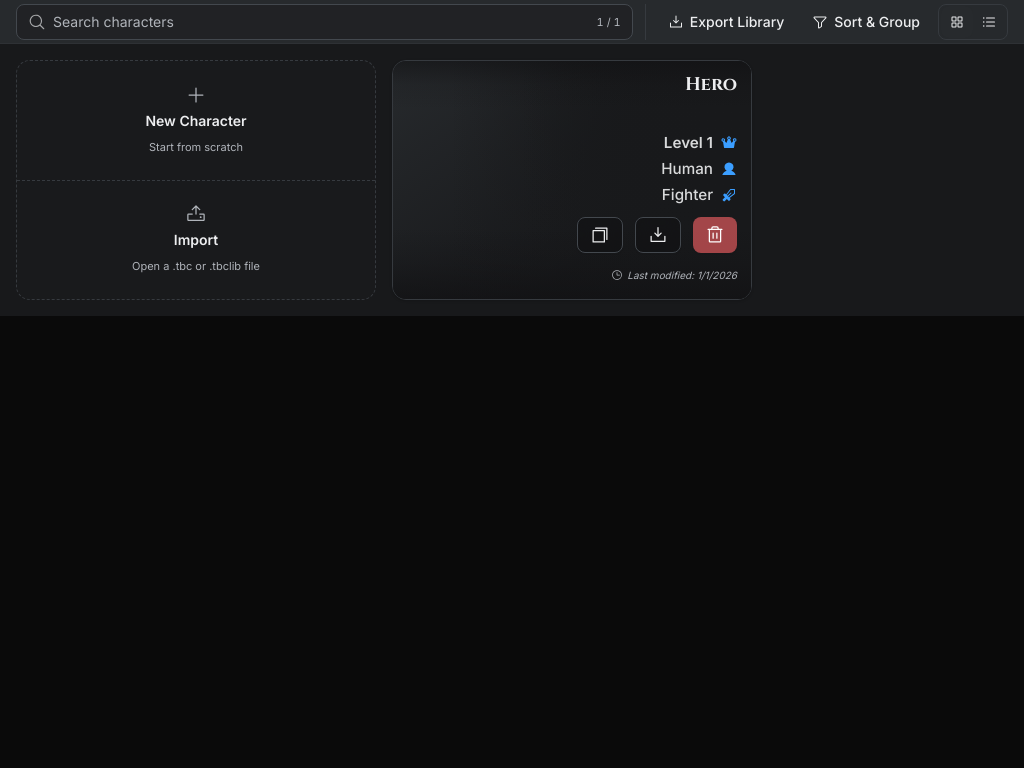
Test: home page integration workflows › shows the assigned name and ID for a single import with collisions
Click the button "Import Open a .tbc or .tbclib file": click(196, 240) [17,180,375,299]
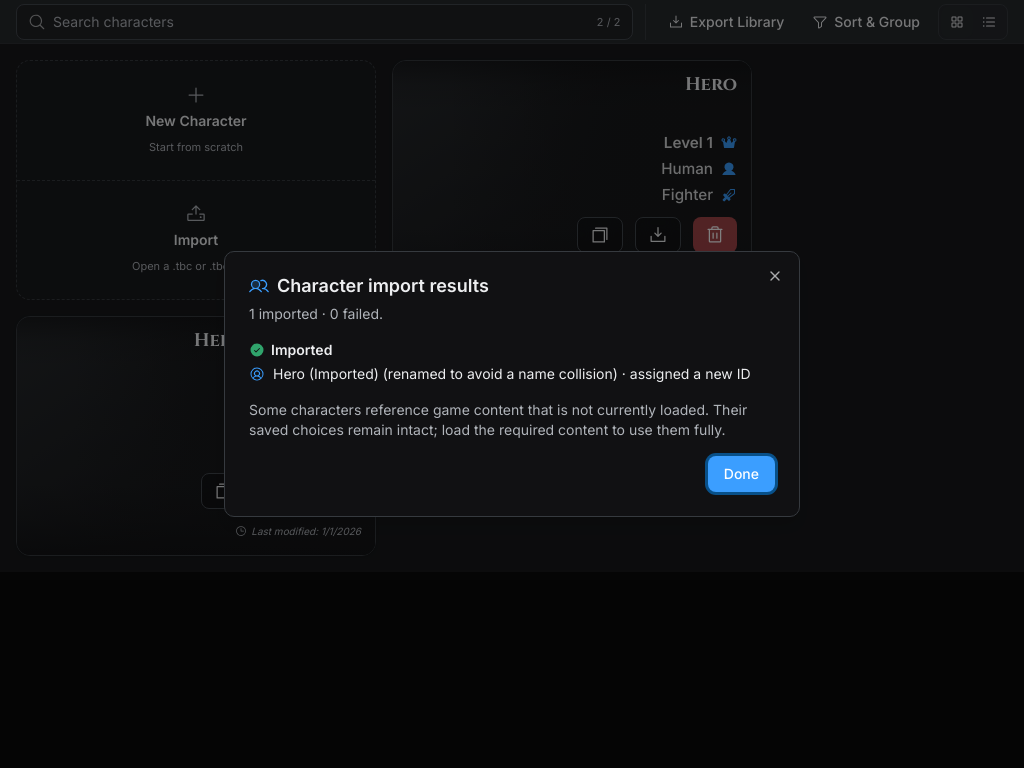
Expected: the text "1 imported · 0 failed." is shown, [249,305,383,322]
Expected: the text "assigned a new ID" is shown, [618,365,751,382]
